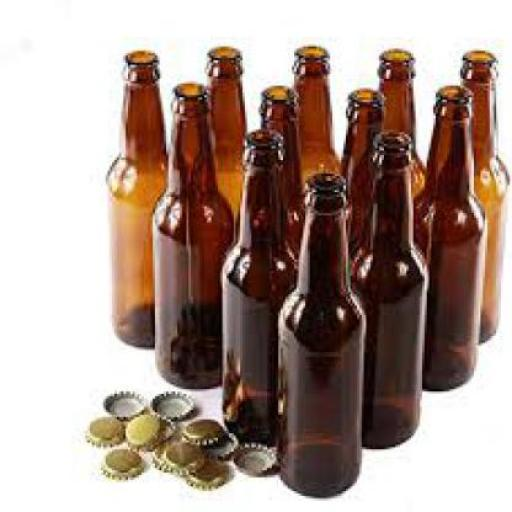glass: (272, 171, 362, 499), (148, 81, 231, 387), (218, 128, 294, 448), (346, 130, 420, 447), (411, 86, 483, 390), (106, 48, 170, 348), (454, 49, 505, 340), (287, 44, 339, 232), (375, 48, 423, 246), (338, 88, 386, 271), (202, 46, 245, 225), (258, 83, 296, 135)
metal: (121, 410, 162, 449), (233, 438, 274, 475), (99, 446, 143, 478), (148, 386, 189, 418), (182, 458, 224, 487), (83, 414, 121, 445), (159, 440, 200, 468), (101, 389, 144, 415), (182, 417, 218, 445), (148, 445, 182, 471), (211, 428, 236, 459), (151, 414, 173, 440)
